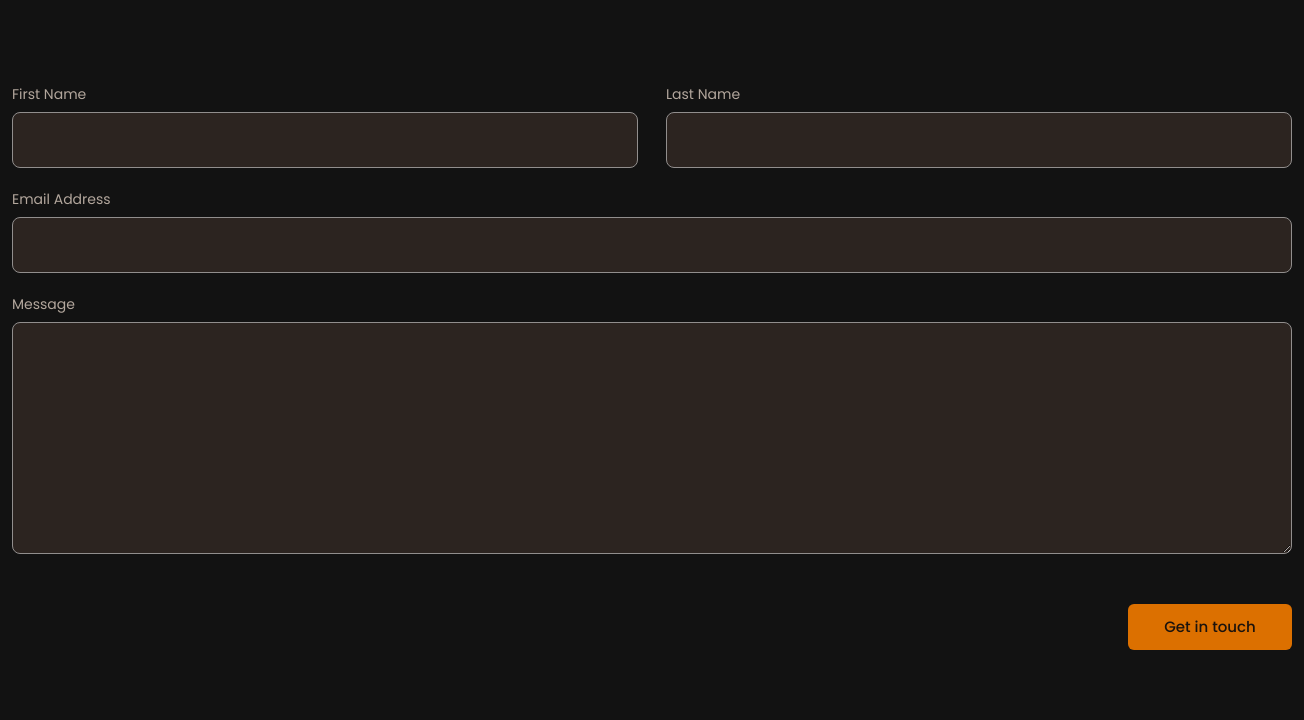
Test: ContactForm › shows an error under every empty field and focuses the first one
The image size is (1304, 720).
Click the button "Get in touch". click: point(1210, 627)
box: [1128, 604, 1292, 650]
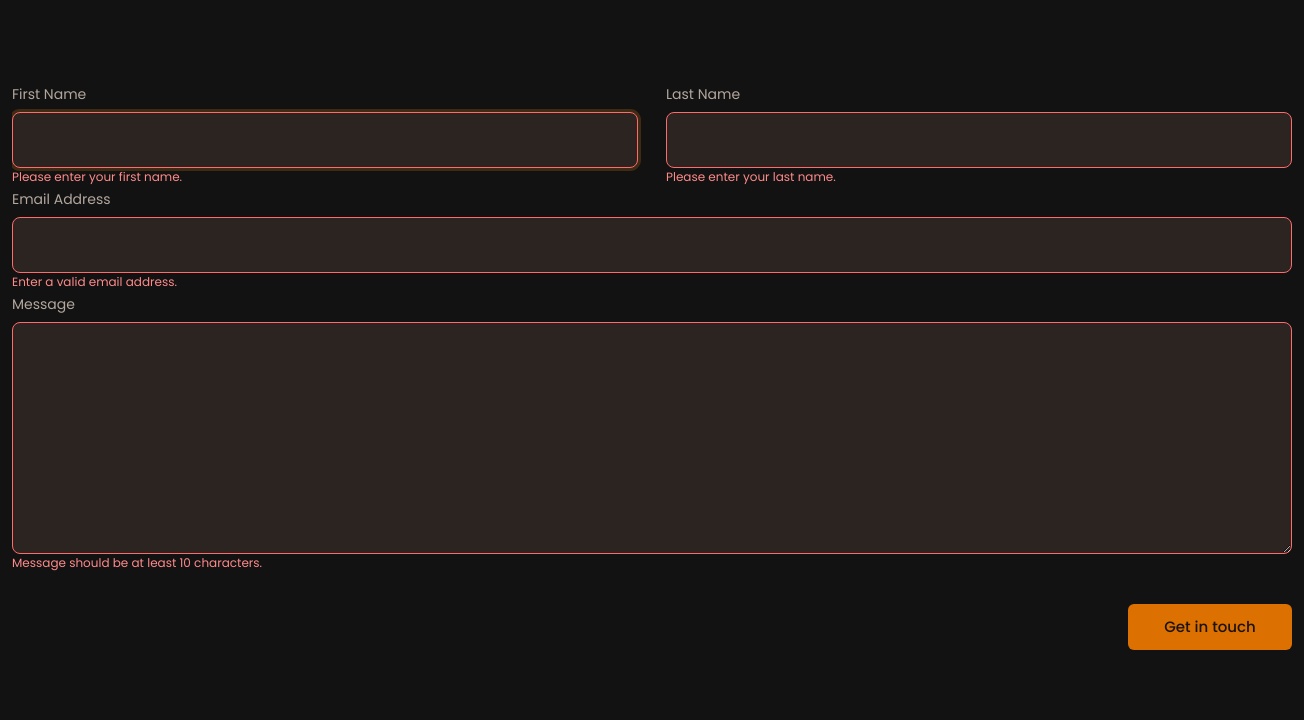
Expected: the text "Please enter your first name." is shown, [12, 170, 182, 184]
Expected: the text "Please enter your last name." is shown, [666, 170, 836, 184]
Expected: the text "Enter a valid email address." is shown, [12, 275, 177, 289]
